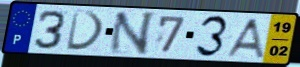3: (192, 14, 232, 59), (33, 9, 68, 50)
7: (157, 15, 185, 54)
A: (222, 17, 267, 60)
D: (64, 8, 107, 52)
N: (107, 11, 158, 56)
